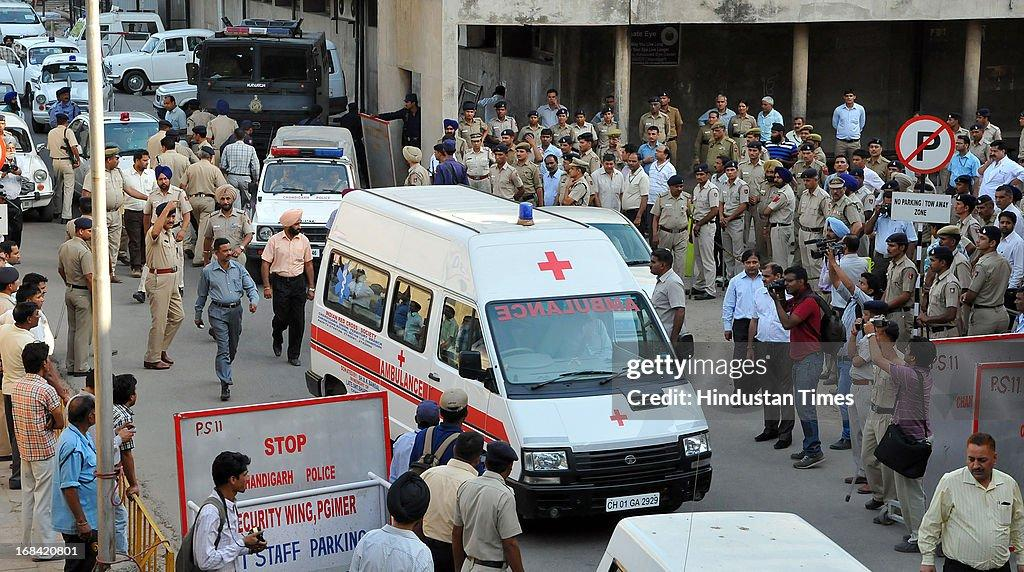ambulance: (427, 208, 644, 354)
